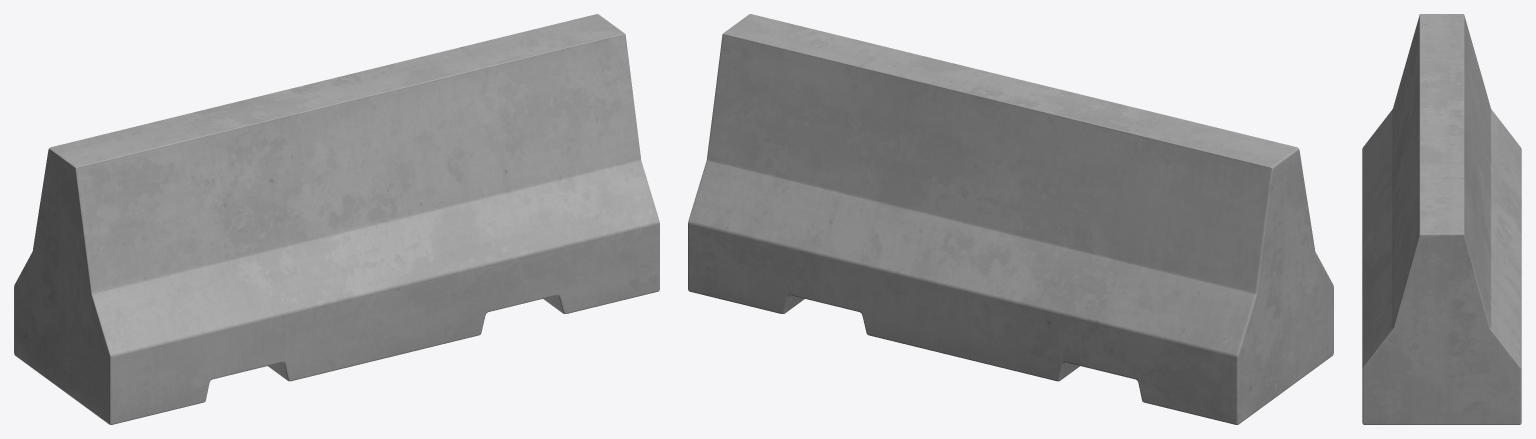
Rendered from Jersey_Barrier.fbx.
The picture shows the model from 3 angles, left to right: view 1: azimuth 30°, elevation 25°; view 2: azimuth 150°, elevation 25°; view 3: azimuth 270°, elevation 25°; orthographic projection. The views are drawn at different scales.
Visible parts, largest first — view 1: Jersey_Barrier; view 2: Jersey_Barrier; view 3: Jersey_Barrier.
Boxes of the visible parts, x1=… form: Jersey_Barrier: x1=14, y1=14, x2=659, y2=424; Jersey_Barrier: x1=688, y1=14, x2=1333, y2=424; Jersey_Barrier: x1=1362, y1=14, x2=1521, y2=424.
Bounding box in the file's own units: 2 × 0.81 × 0.61.
